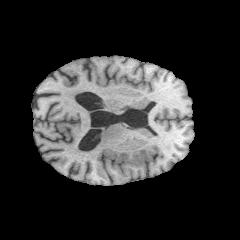glioma: (97, 148, 156, 178)
